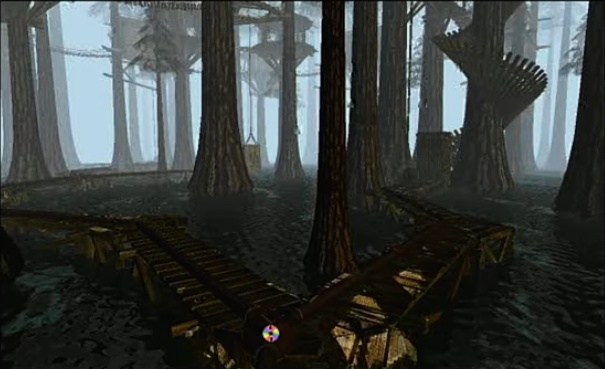Waiting: (257, 320, 283, 345)
